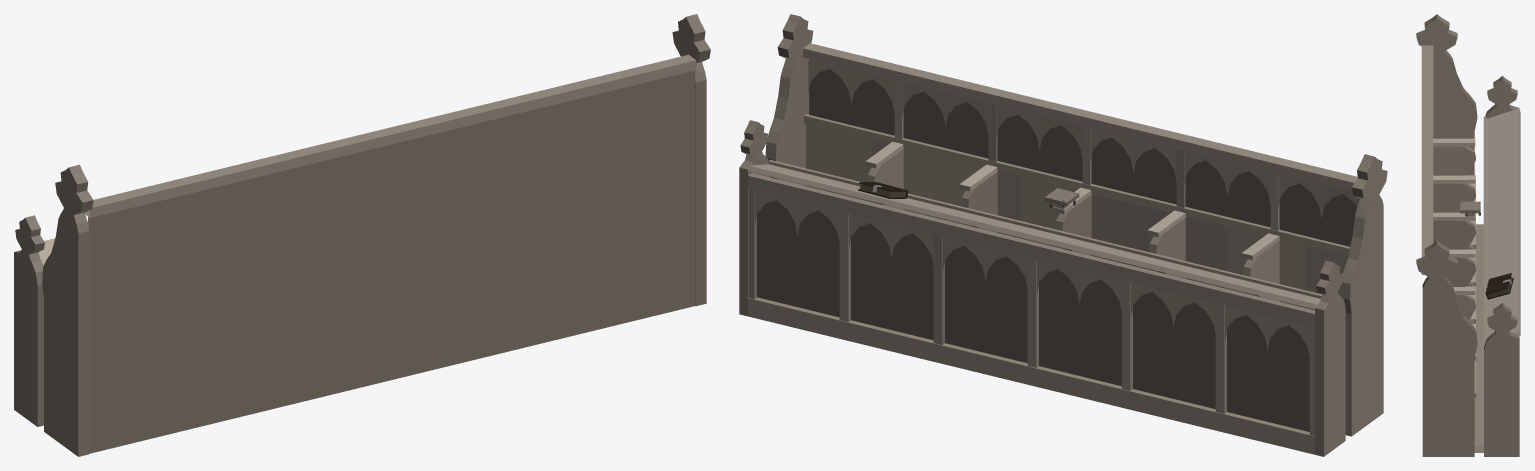
The model's file is prop_choir_stalls_c.glb.
3 renders of one model, left to right at view 1: azimuth 30°, elevation 25°; view 2: azimuth 150°, elevation 25°; view 3: azimuth 270°, elevation 25°, orthographic. The views are drawn at different scales.
Visible parts, largest first — view 1: ChoirStallsC; view 2: ChoirStallsC; view 3: ChoirStallsC.
Boxes of the visible parts, box(x1,y1,x2,y2) form: ChoirStallsC: box(14, 14, 710, 456); ChoirStallsC: box(739, 14, 1387, 456); ChoirStallsC: box(1416, 14, 1520, 456).
Size of the model in its own units: 4 by 1.72 by 0.7636.
